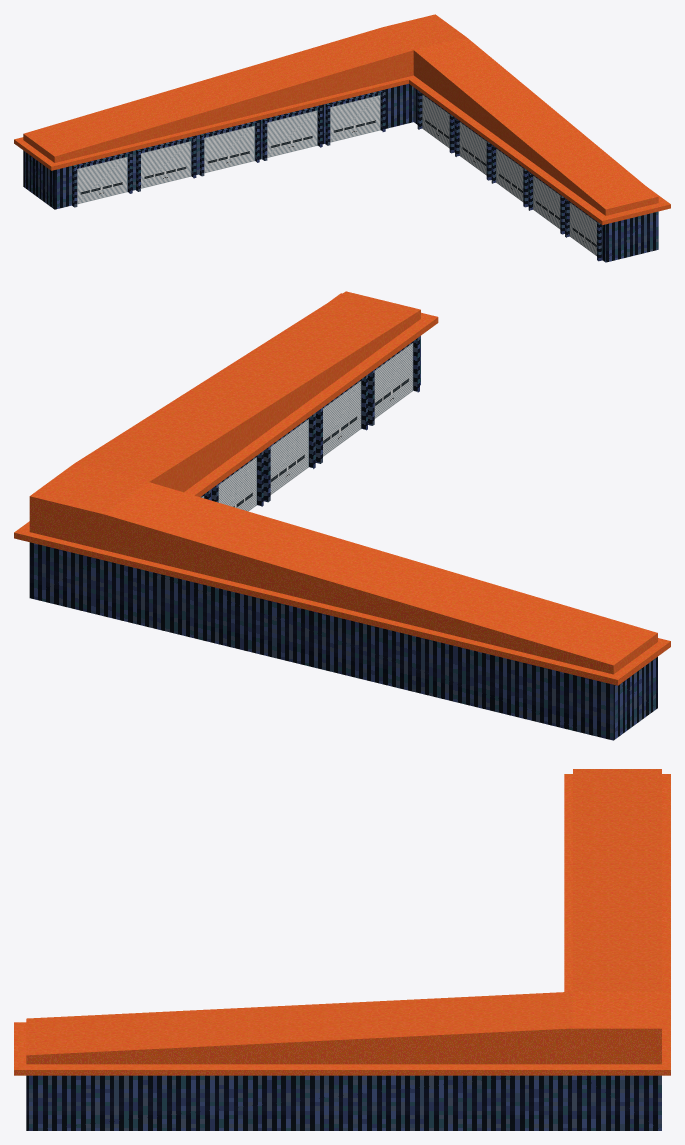
The model's file is BGN_PUBLIC STORAGE.fbx.
3 views of the same model, one above another, from view 1: azimuth 30°, elevation 25°; view 2: azimuth 150°, elevation 25°; view 3: azimuth 270°, elevation 25° (orthographic). The views are drawn at different scales.
Visible parts, largest first — view 1: BGN_PUBLIC_STORAGE; view 2: BGN_PUBLIC_STORAGE; view 3: BGN_PUBLIC_STORAGE.
Part boxes in pixels (x1,y1,x2,y2): BGN_PUBLIC_STORAGE: (14,14,670,262); BGN_PUBLIC_STORAGE: (14,291,670,740); BGN_PUBLIC_STORAGE: (14,769,670,1130).
Bounding box in the file's own units: 3671 × 600 × 3443.
